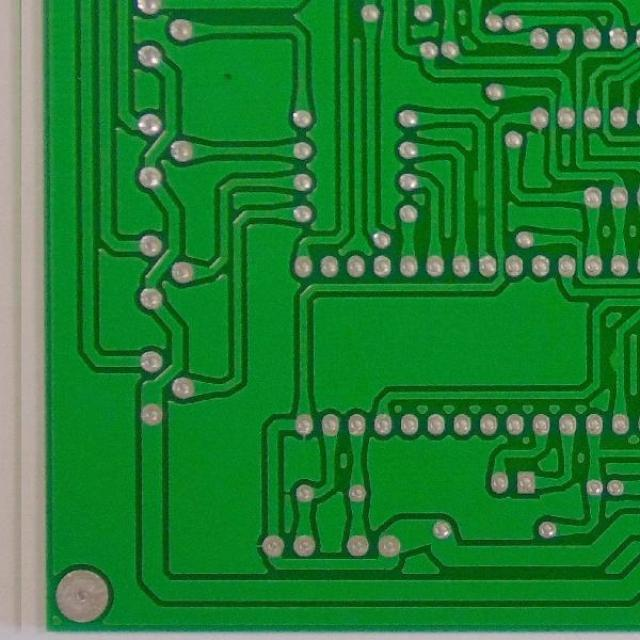Spur: (471, 162, 492, 210), (606, 345, 630, 378)
